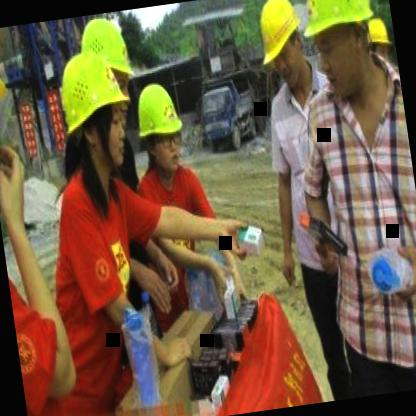helmet: (53, 38, 137, 179), (292, 0, 387, 107), (124, 74, 190, 186), (248, 0, 317, 105), (70, 13, 136, 104), (0, 27, 18, 192), (362, 11, 396, 74)
